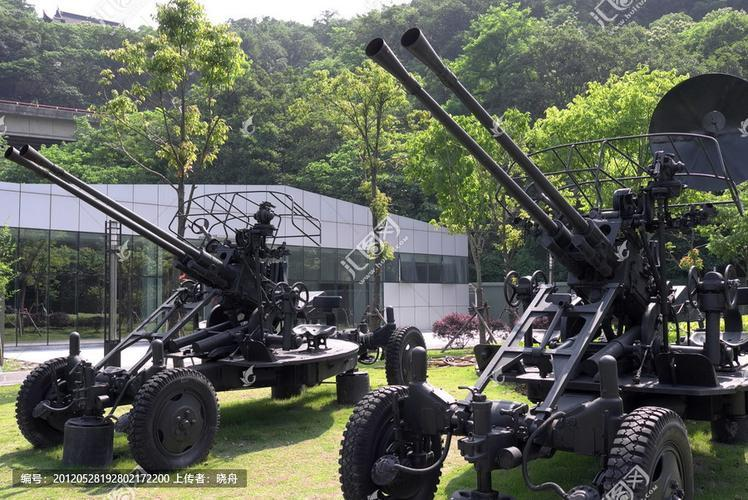MIL_SPG: (6, 146, 424, 470)
